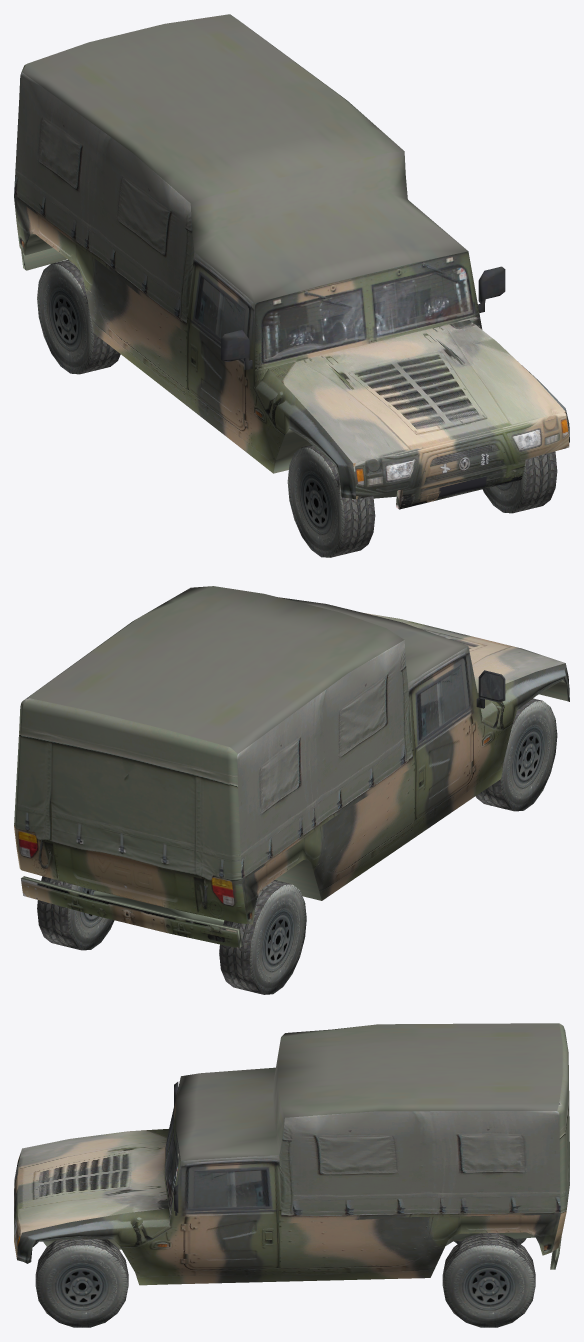
File: 猛士车.glb
3 views of the same model, one above another, from view 1: azimuth 30°, elevation 25°; view 2: azimuth 150°, elevation 25°; view 3: azimuth 270°, elevation 25° (orthographic). The views are drawn at different scales.
Parts seen in each view (by area): view 1: node_id5, node_id8; view 2: node_id5, node_id8; view 3: node_id5, node_id8.
Part boxes in pixels (<box>): node_id5: <box>14,14,569,509</box>; node_id8: <box>37,259,557,557</box>; node_id5: <box>14,586,569,948</box>; node_id8: <box>37,698,557,994</box>; node_id5: <box>14,1023,569,1285</box>; node_id8: <box>35,1233,535,1327</box>.
Size of the model in its own units: 0.512 by 0.4781 by 1.07.
2 materials, 2 textured.
